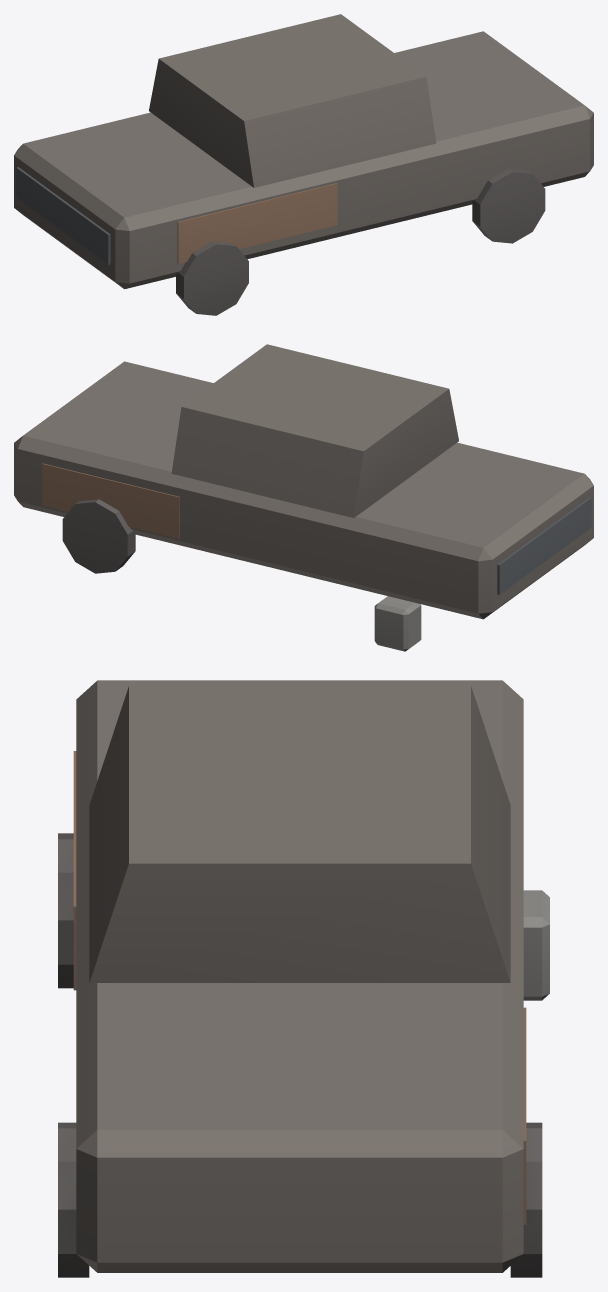
Rendered from mil_wreck.glb.
The picture shows the model from 3 angles, top to bottom: view 1: azimuth 30°, elevation 25°; view 2: azimuth 150°, elevation 25°; view 3: azimuth 270°, elevation 25°; orthographic projection. The views are drawn at different scales.
Parts seen in each view (by area): view 1: mil_wreck; view 2: mil_wreck; view 3: mil_wreck.
Boxes of the visible parts, <box> form: mil_wreck: <box>14,14,593,315</box>; mil_wreck: <box>14,344,593,651</box>; mil_wreck: <box>58,680,549,1277</box>.
Size of the model in its own units: 4.22 by 1.45 by 1.87.
